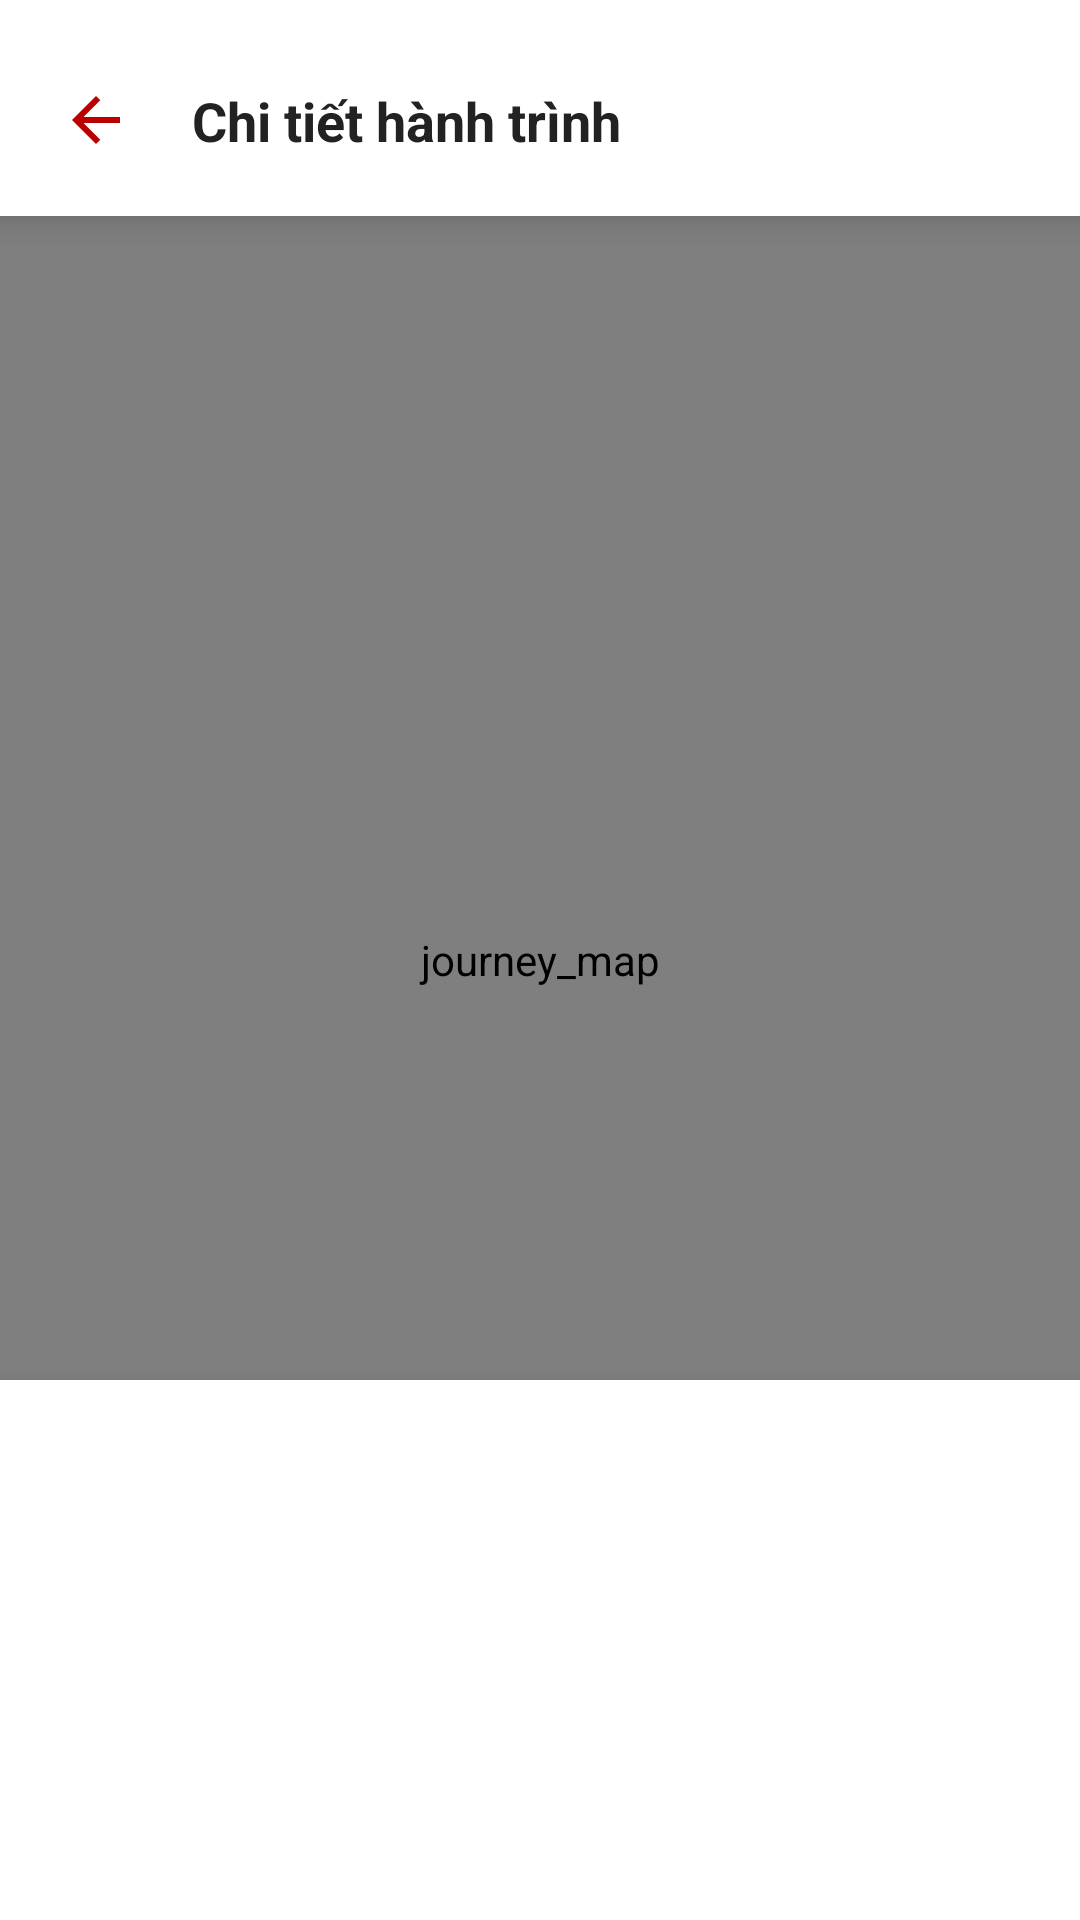

Locate icon controls on the screen. Image size 1080px×1920px, boxes as box(x1, y1, x2, y2).
Back: box(72, 96, 120, 144)
